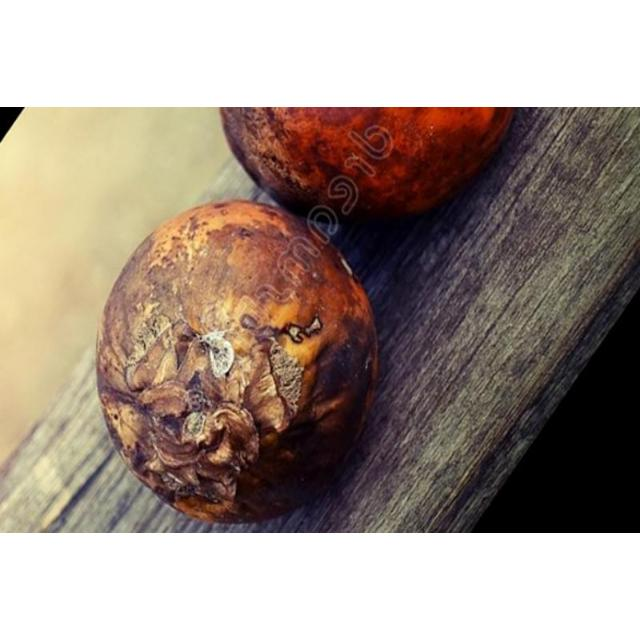damaged: (95, 201, 381, 525), (216, 107, 517, 223)
